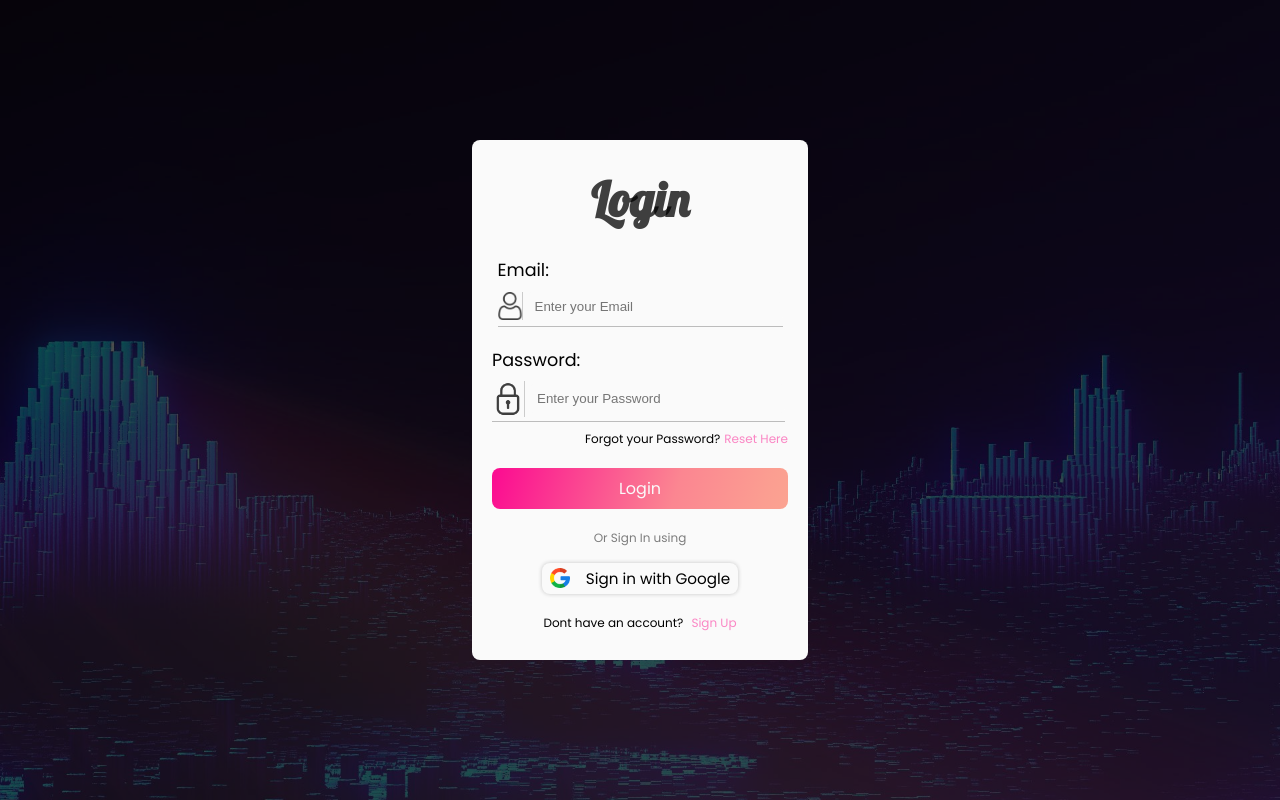
Test case: LoginPagetoResetRedirection › should navigate to the reset page
The width and height of the screenshot is (1280, 800).
Click the link "Reset Here": click(756, 439) top-left (724, 430), bottom-right (788, 448)
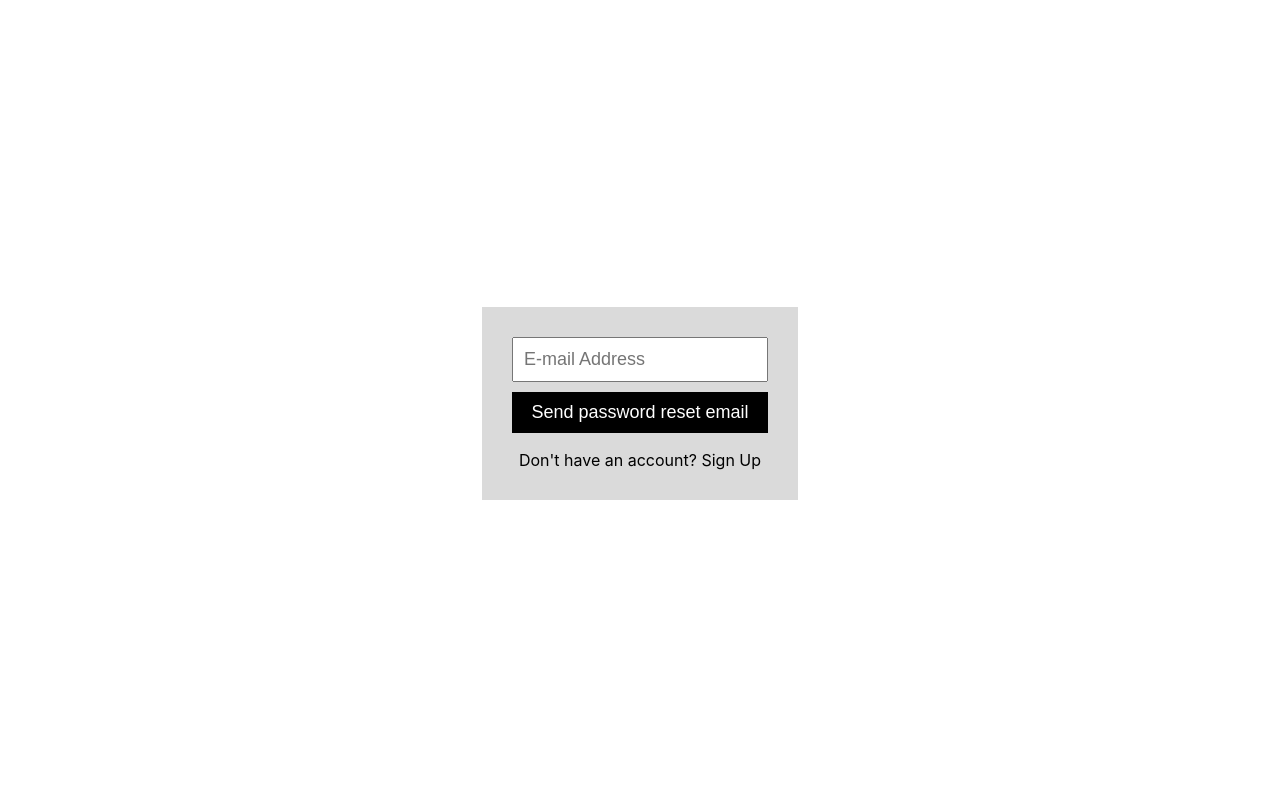
expect the button "Send password reset email" is shown: met, box top-left (512, 392), bottom-right (768, 433)
